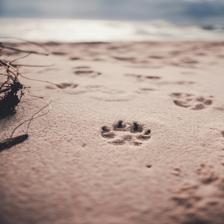dog: (97, 118, 153, 146)
